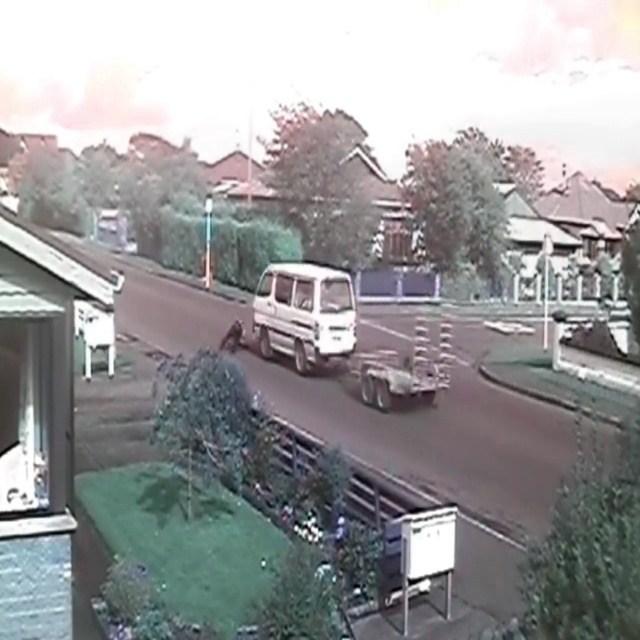acc: (200, 284, 314, 369)
